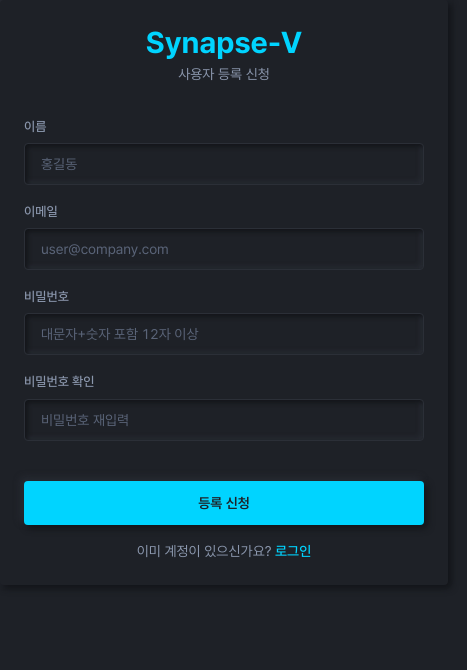
RegisterPage › 빈 폼 제출 — 유효성 검사
The image size is (467, 670).
Click the button "등록 신청" at (224, 502), box [24, 480, 424, 524]
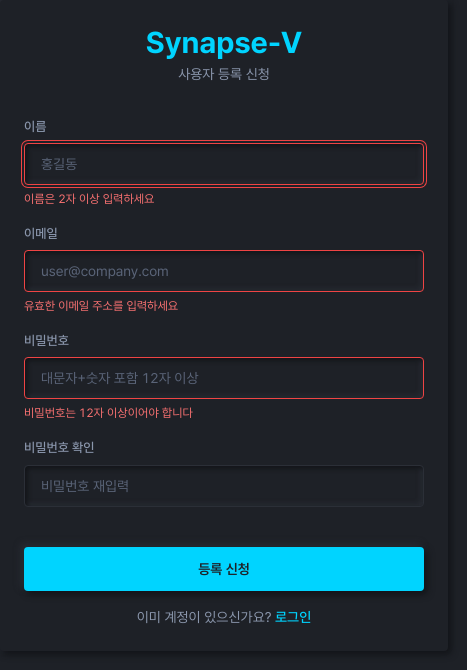
Expected: the text "이름은 2자 이상 입력하세요" is shown, [24, 192, 154, 206]
